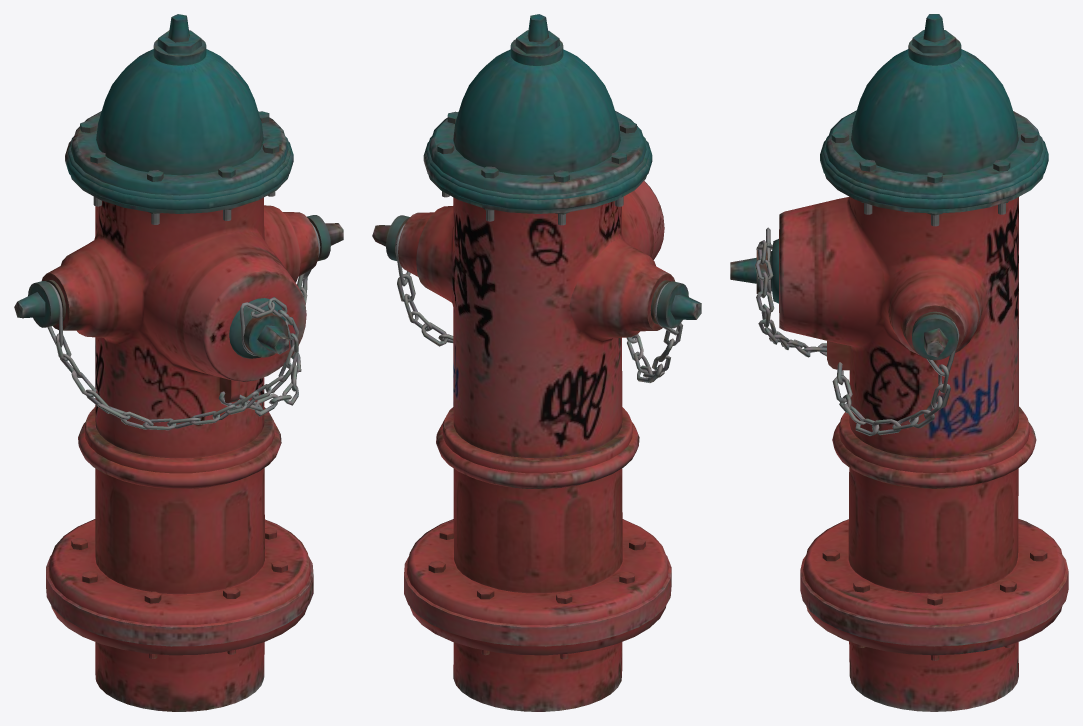
File: prop_fire_hydrant.glb
3 views of the same model, side by side, from view 1: azimuth 30°, elevation 25°; view 2: azimuth 150°, elevation 25°; view 3: azimuth 270°, elevation 25° (orthographic).
Parts seen in each view (by area): view 1: Hydrant_LowPoly_0; view 2: Hydrant_LowPoly_0; view 3: Hydrant_LowPoly_0.
Part boxes in pixels (left/top/right/bottom): Hydrant_LowPoly_0: left=14, top=14, right=343, bottom=711; Hydrant_LowPoly_0: left=372, top=14, right=701, bottom=711; Hydrant_LowPoly_0: left=730, top=14, right=1068, bottom=711.
Bounding box in the file's own units: 0.4844 × 0.9496 × 0.4414.
1 material, 1 textured.
